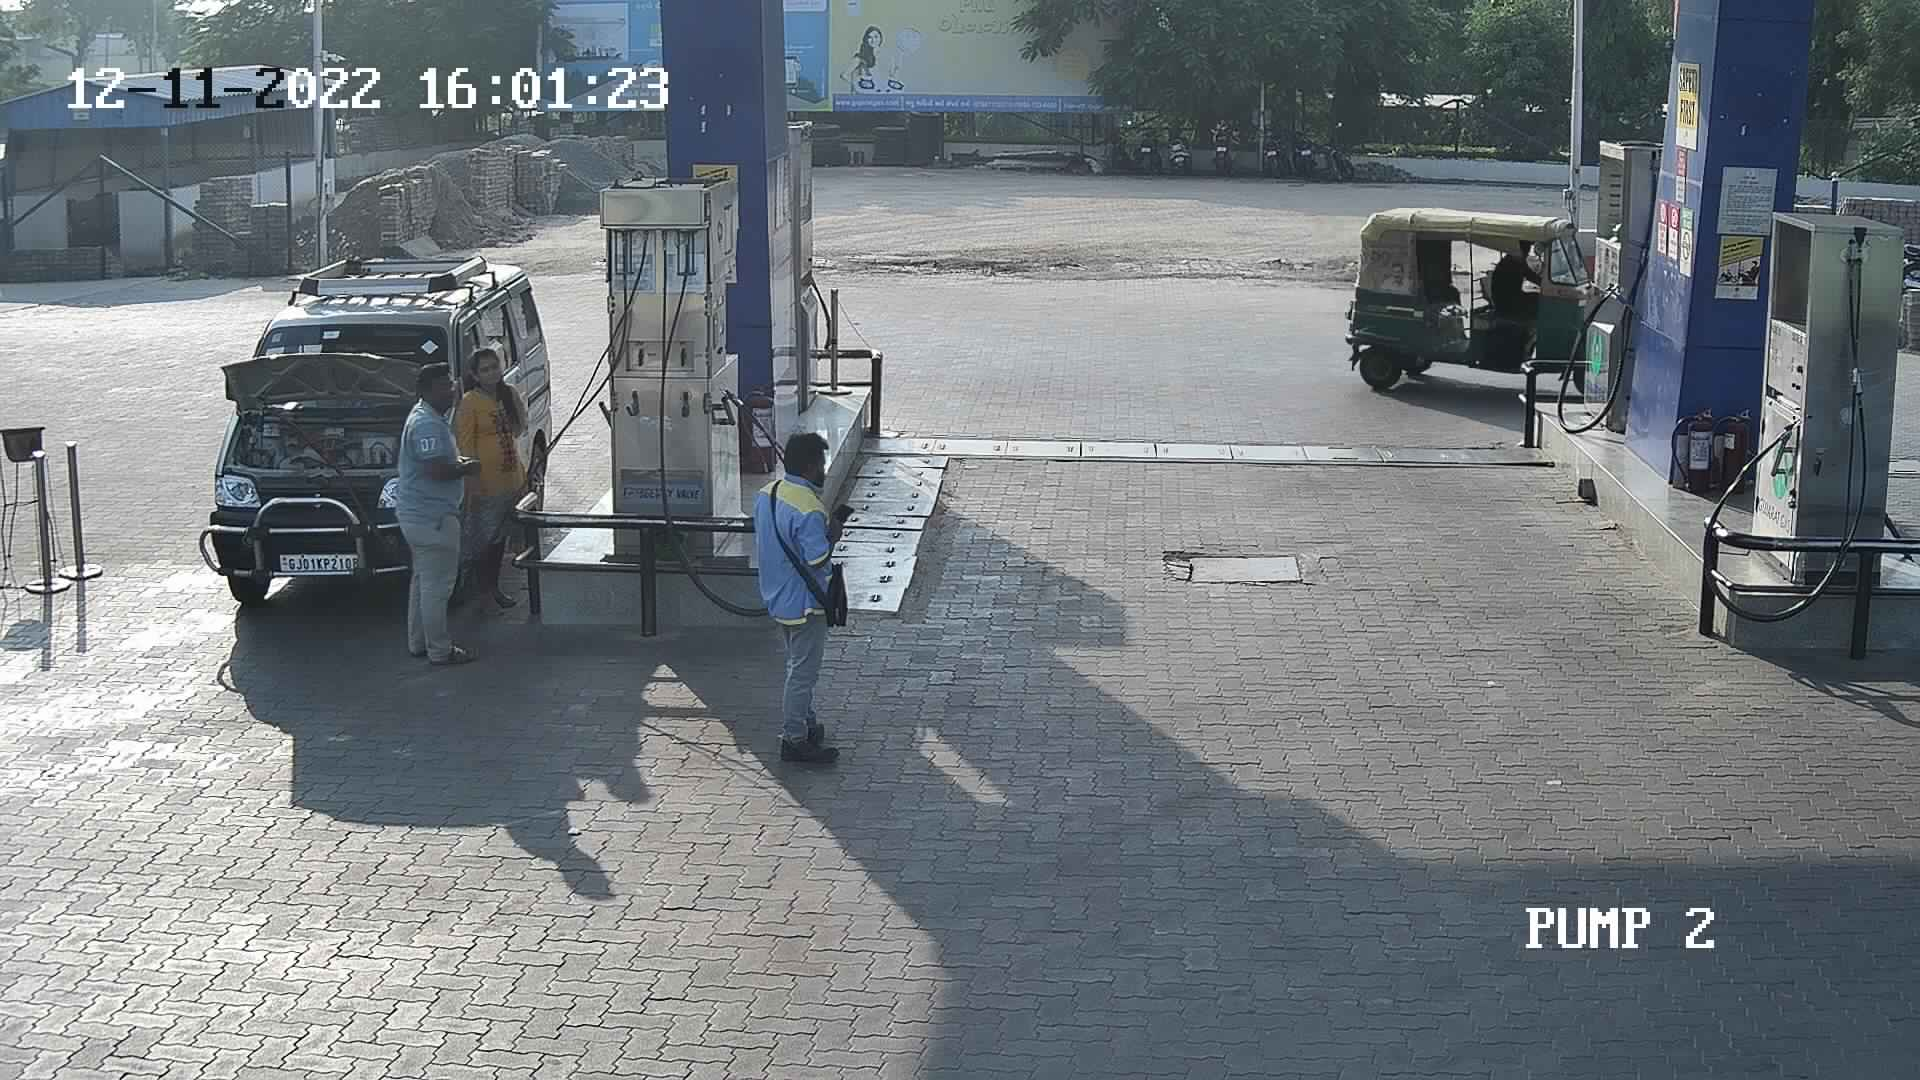Auto: (1327, 185, 1606, 409)
Bike: (1299, 116, 1356, 187), (1199, 102, 1251, 175), (1126, 105, 1171, 182), (1156, 98, 1195, 173), (1283, 113, 1321, 186), (1251, 104, 1287, 182)
Car: (182, 240, 564, 618)
Others: (740, 426, 848, 767)
